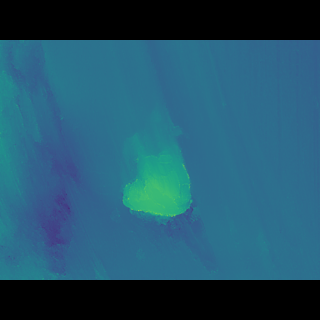Loch: (0, 71, 101, 251), (115, 124, 222, 244)
